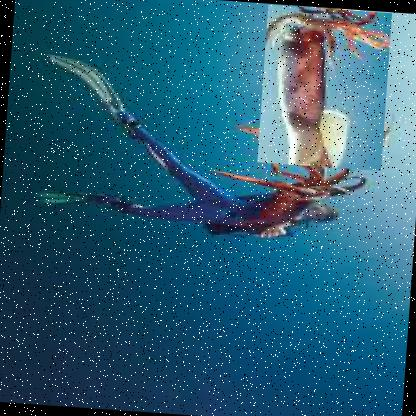colossal_squid: (255, 4, 391, 172)
